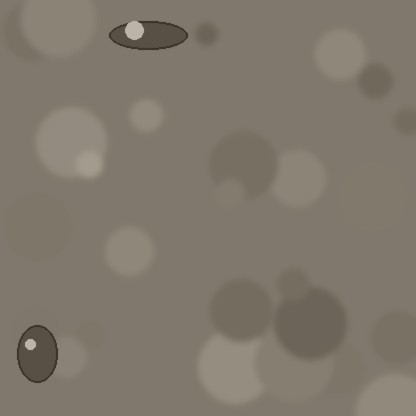gota: (17, 327, 57, 387), (109, 22, 187, 52)
